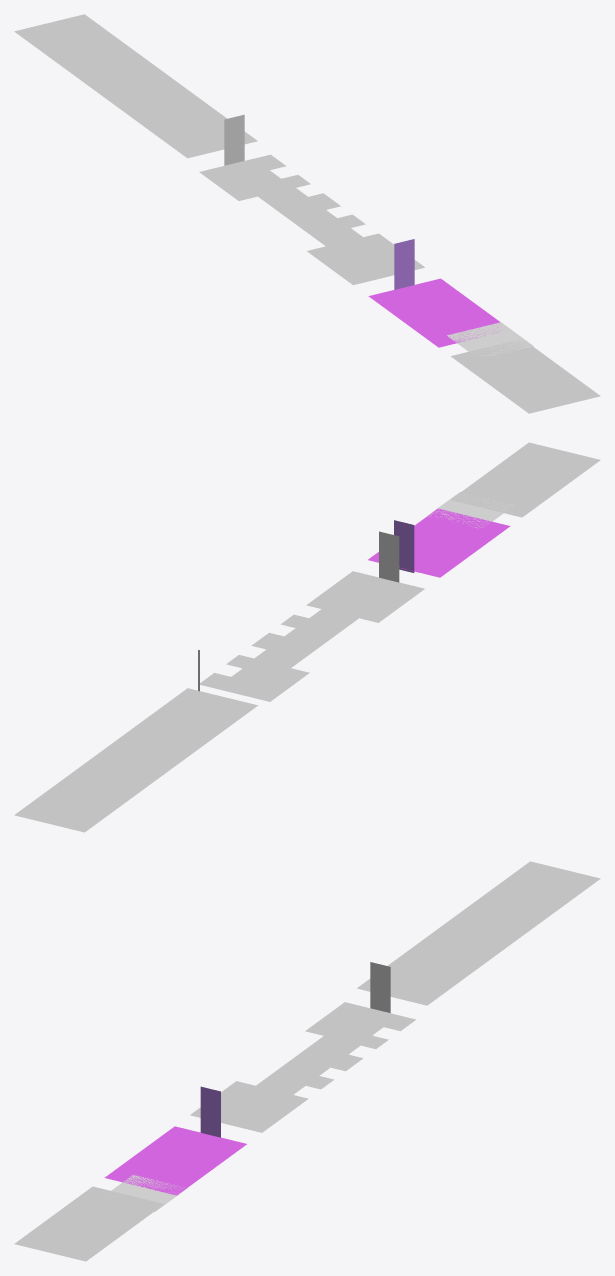
File: navmesh2.glb
The picture shows the model from 3 angles, top to bottom: view 1: azimuth 30°, elevation 25°; view 2: azimuth 150°, elevation 25°; view 3: azimuth 330°, elevation 25°; orthographic projection.
Parts seen in each view (by area): view 1: Plane.010, Plane.001, Plane, Plane.005, Plane.003, Plane.004, Plane.002, Plane.012, Plane.014; view 2: Plane.010, Plane.001, Plane, Plane.003, Plane.005, Plane.004, Plane.002, Plane.013, Plane.014; view 3: Plane.010, Plane.001, Plane, Plane.005, Plane.003, Plane.004, Plane.002, Plane.012, Plane.014.
Part boxes in pixels (bbox=[...]): Plane.010: bbox=[14, 14, 257, 158]; Plane.001: bbox=[450, 340, 600, 413]; Plane: bbox=[368, 278, 500, 347]; Plane.005: bbox=[246, 178, 371, 250]; Plane.003: bbox=[307, 233, 424, 285]; Plane.004: bbox=[199, 158, 291, 200]; Plane.002: bbox=[447, 322, 533, 357]; Plane.012: bbox=[224, 114, 244, 165]; Plane.014: bbox=[394, 239, 414, 289]; Plane.010: bbox=[14, 688, 257, 832]; Plane.001: bbox=[451, 442, 600, 517]; Plane: bbox=[368, 508, 510, 577]; Plane.003: bbox=[306, 571, 424, 622]; Plane.005: bbox=[241, 608, 366, 676]; Plane.004: bbox=[220, 664, 309, 701]; Plane.002: bbox=[427, 492, 513, 528]; Plane.013: bbox=[379, 531, 399, 582]; Plane.014: bbox=[394, 520, 414, 572]; Plane.010: bbox=[357, 861, 600, 1005]; Plane.001: bbox=[14, 1186, 164, 1261]; Plane: bbox=[104, 1126, 246, 1195]; Plane.005: bbox=[247, 1026, 373, 1100]; Plane.003: bbox=[190, 1081, 308, 1132]; Plane.004: bbox=[305, 1002, 399, 1044]; Plane.002: bbox=[102, 1174, 187, 1211]; Plane.012: bbox=[370, 962, 390, 1012]; Plane.014: bbox=[200, 1086, 220, 1137].
Bounding box in the file's own units: 52.19 × 32.82 × 637.
